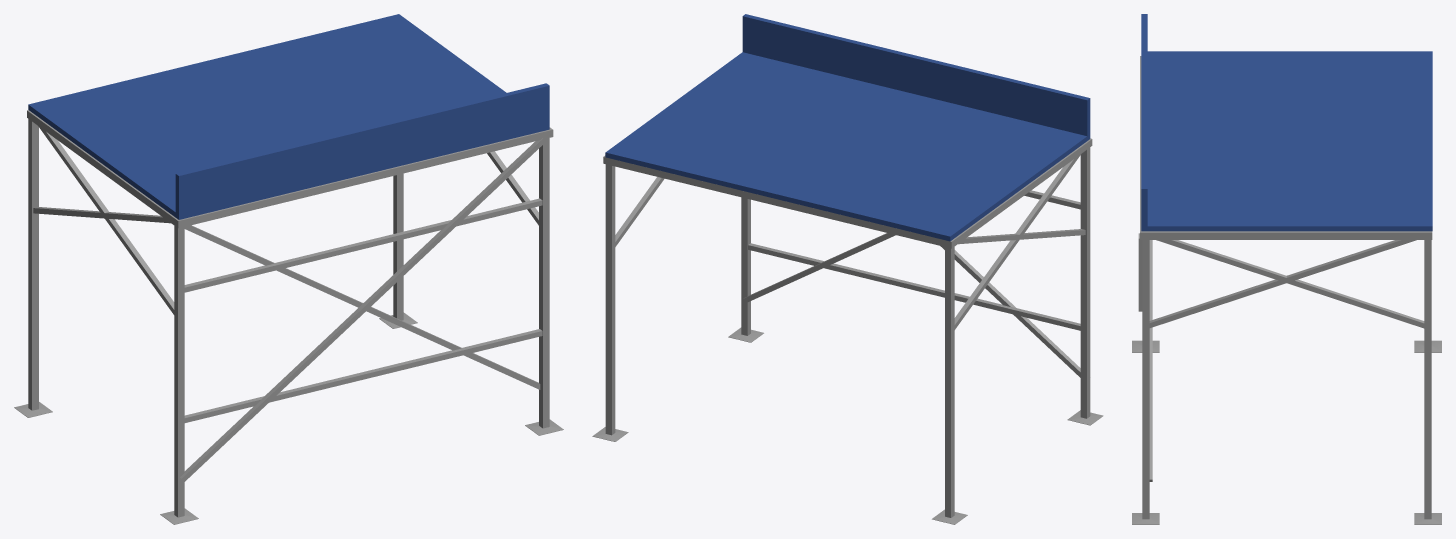
The model's file is Scaffolding_01.fbx.
3 views of the same model, side by side, from view 1: azimuth 30°, elevation 25°; view 2: azimuth 150°, elevation 25°; view 3: azimuth 270°, elevation 25° (orthographic). The views are drawn at different scales.
Visible parts, largest first — view 1: Scaffolding_01; view 2: Scaffolding_01; view 3: Scaffolding_01.
Part boxes in pixels (x1=…): Scaffolding_01: x1=14, y1=14, x2=563, y2=524; Scaffolding_01: x1=592, y1=14, x2=1103, y2=524; Scaffolding_01: x1=1132, y1=14, x2=1441, y2=524.
Bounding box in the file's own units: 722 × 607 × 514.
